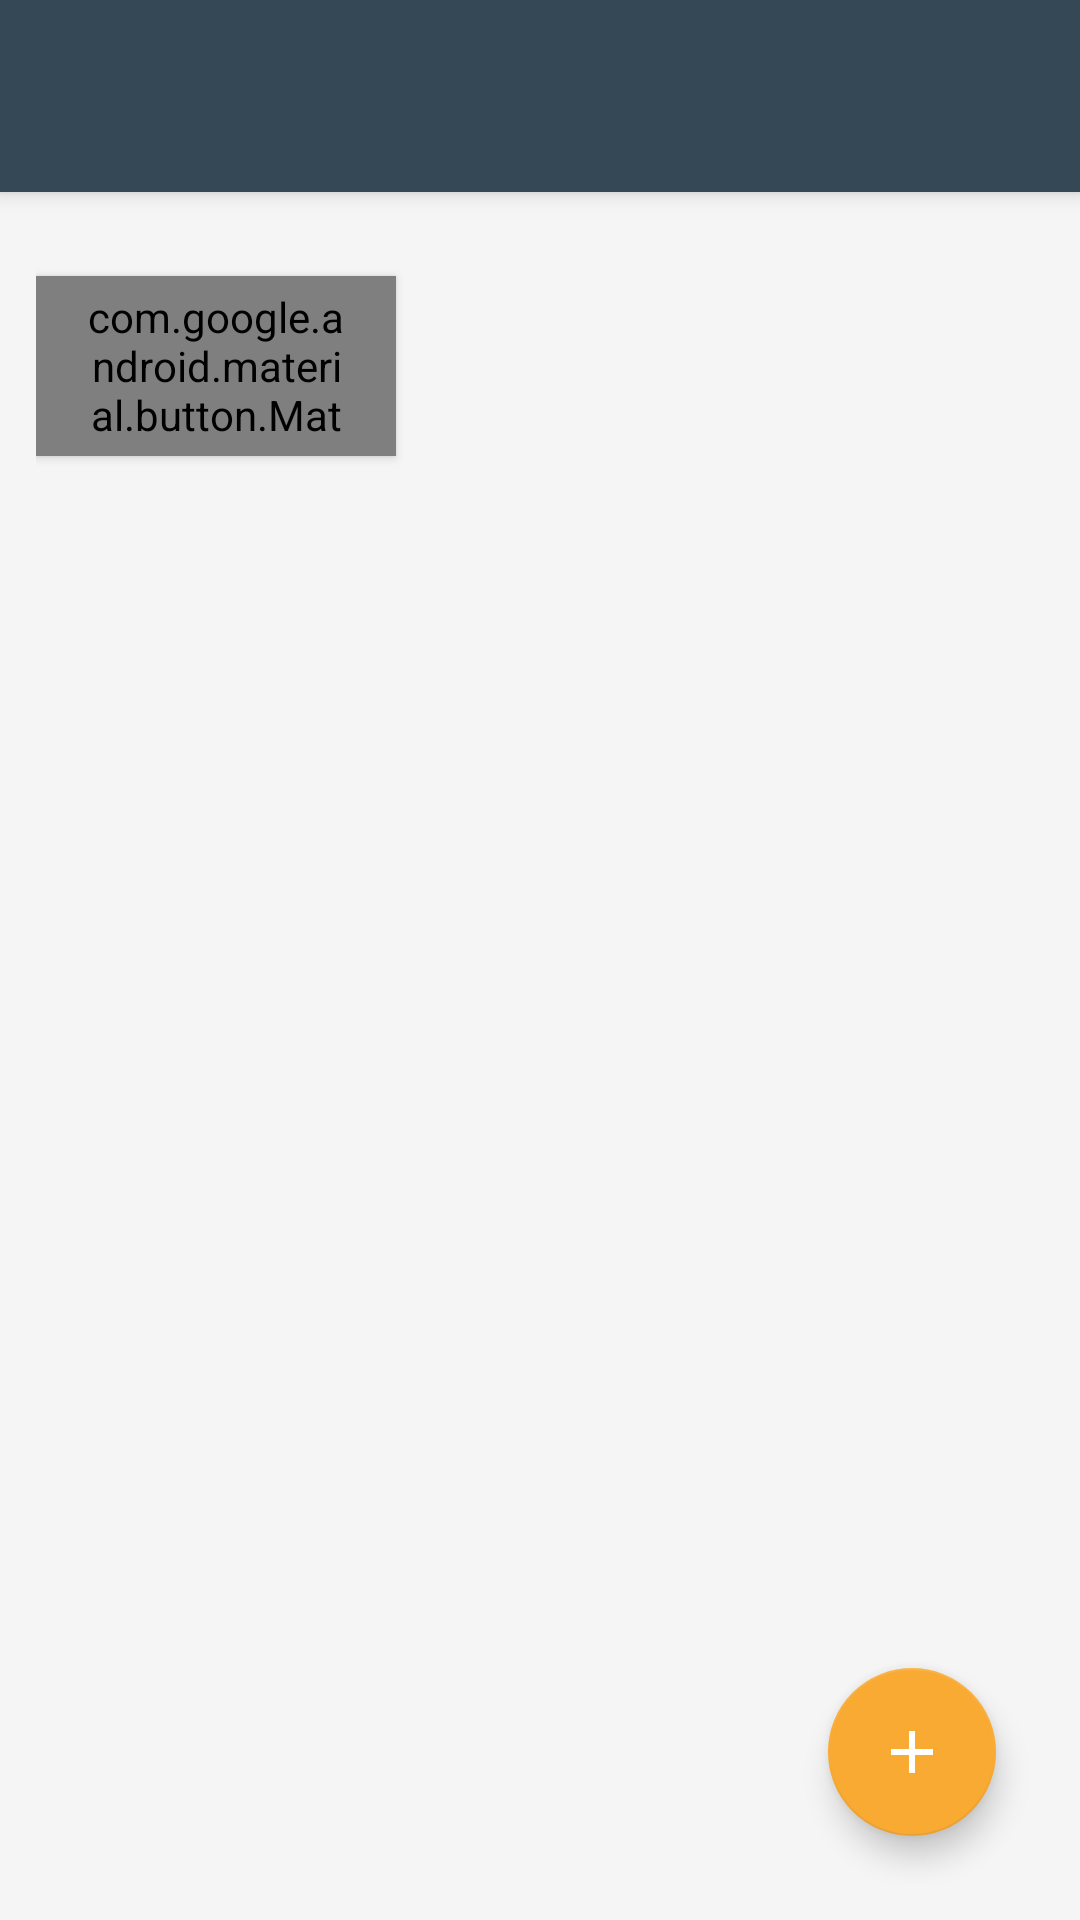

Screen size 1080 × 1920. Icon name, then its center in pixels as (x,y):
add: (912,1752)
